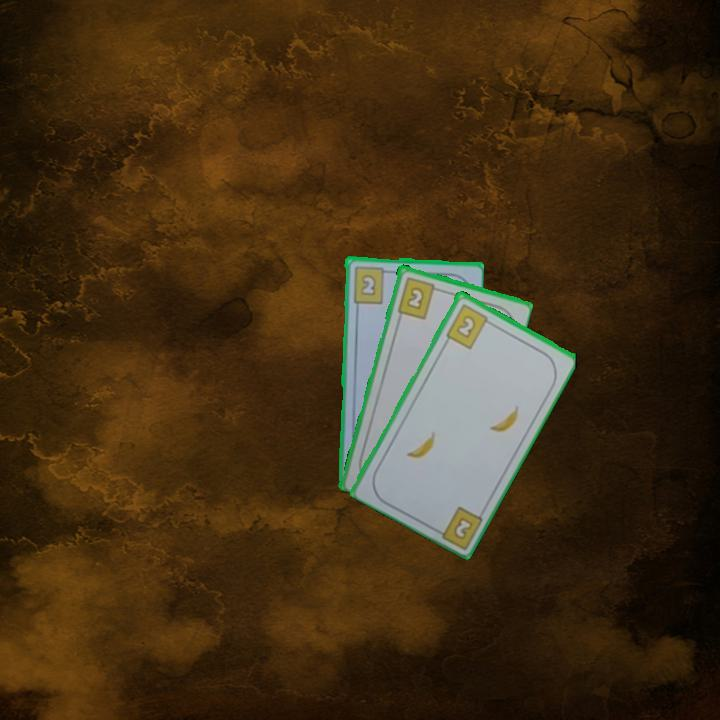2b: (442, 300, 495, 351), (394, 273, 443, 321), (349, 263, 393, 305), (450, 513, 476, 542)
